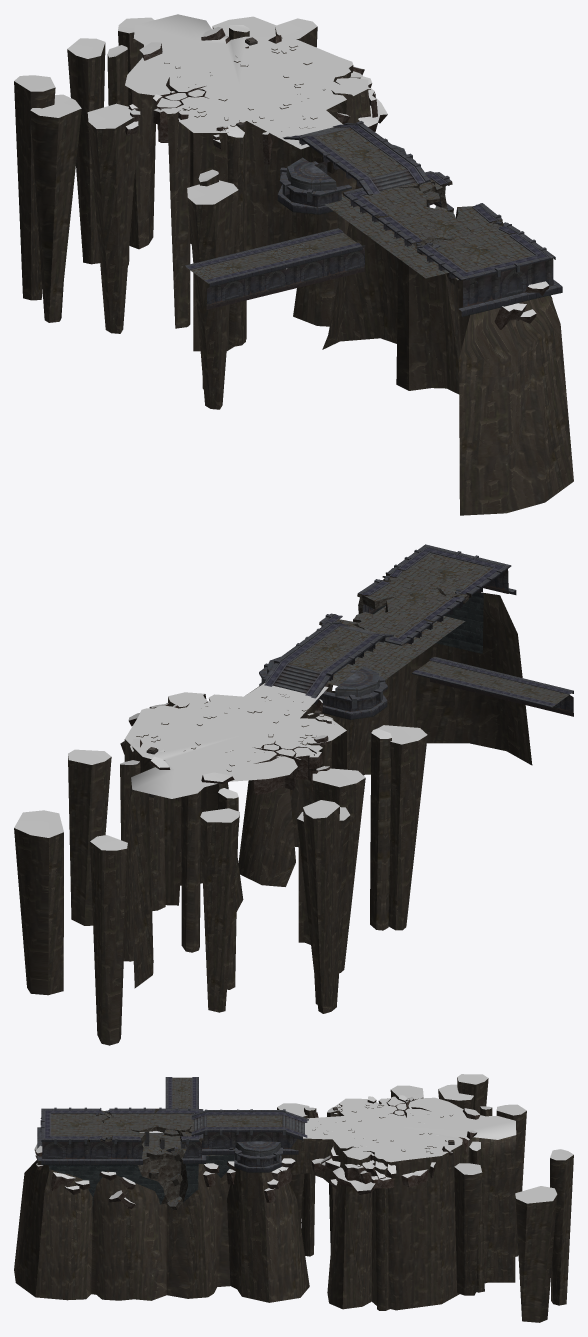
The model's file is common_underground_guanka01.FBX.
3 views of the same model, one above another, from view 1: azimuth 30°, elevation 25°; view 2: azimuth 150°, elevation 25°; view 3: azimuth 270°, elevation 25° (orthographic). The views are drawn at different scales.
Visible parts, largest first — view 1: common_underground_guanka01; view 2: common_underground_guanka01; view 3: common_underground_guanka01.
Part boxes in pixels (x1,y1,x2,y2): common_underground_guanka01: (14, 14, 573, 515); common_underground_guanka01: (14, 544, 573, 1045); common_underground_guanka01: (14, 1074, 573, 1322).
Size of the model in its own units: 97.7 by 205 by 72.83.
